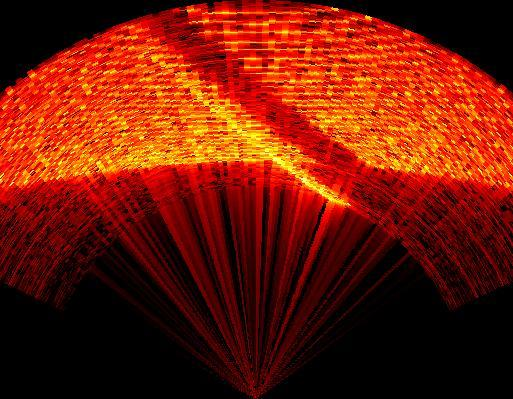pipe: (120, 7, 372, 205)
